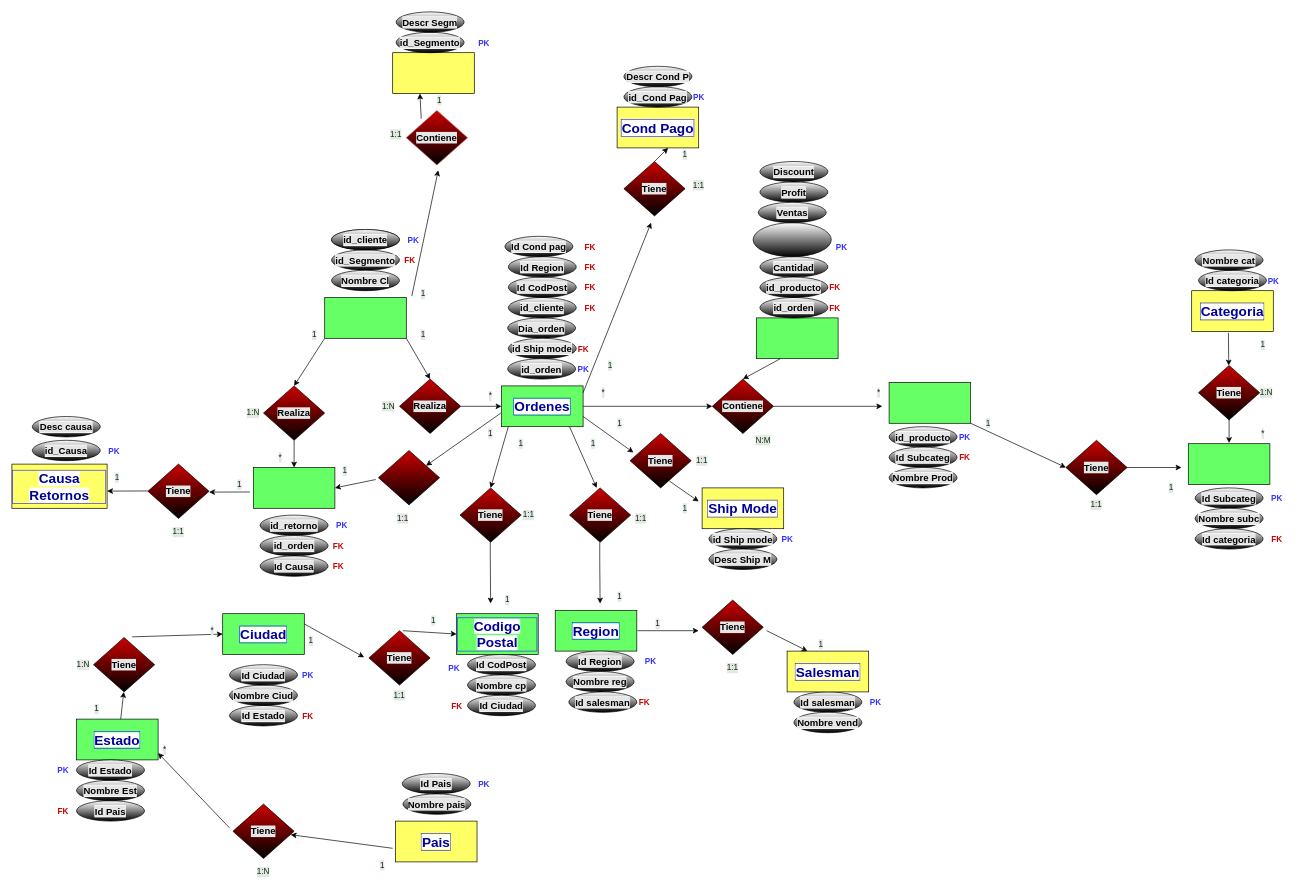
This 1302x894 diagram has some shape labels left out. The box of each missing label's shape, as (x1, y1, x2, y2) in pixels:
Cliente: (324, 297, 406, 338)
Generan: (378, 450, 440, 505)
Id Vta ord / prod: (752, 222, 831, 257)
Ordenes - Producto: (756, 317, 838, 359)
Productos: (888, 382, 971, 423)
Retornos: (253, 467, 335, 508)
Segmento: (392, 52, 474, 94)
Subcateg: (1188, 443, 1270, 485)
